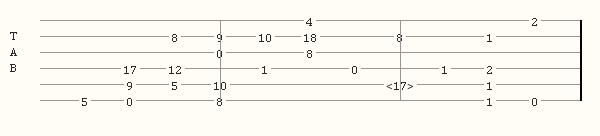0: (126, 94, 137, 106), (216, 46, 227, 58), (351, 62, 362, 74), (531, 94, 542, 106)
1: (261, 62, 272, 74), (441, 62, 452, 74), (486, 94, 497, 106), (486, 30, 497, 42), (486, 78, 497, 90)
10: (213, 78, 231, 90), (258, 30, 276, 42)
12: (168, 62, 186, 74)
17: (123, 62, 141, 74)
18: (303, 30, 321, 42)
2: (486, 62, 497, 74), (531, 14, 542, 26)
4: (306, 14, 317, 26)
5: (81, 94, 92, 106), (171, 78, 182, 90)
8: (171, 30, 182, 42), (216, 94, 227, 106), (306, 46, 317, 58), (396, 30, 407, 42)
9: (126, 78, 137, 90), (216, 30, 227, 42)
harmonic: (386, 78, 418, 90)
